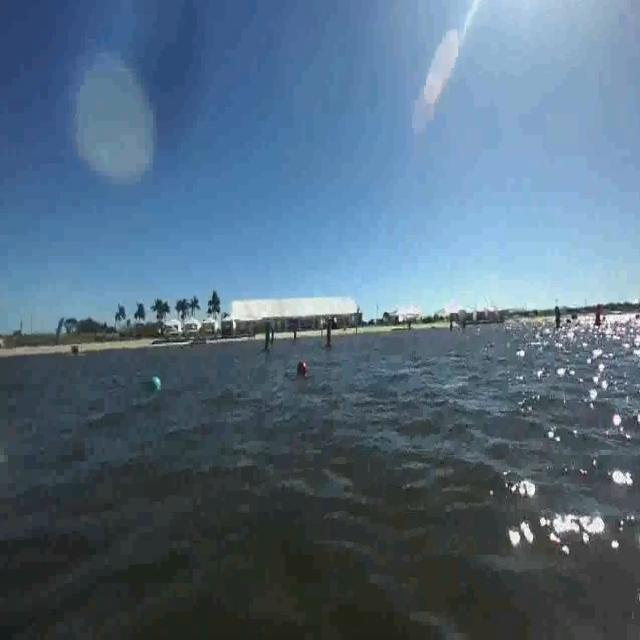green-buoy: (152, 376, 160, 389)
green-column-buoy: (264, 325, 276, 355)
red-buoy: (297, 360, 306, 374)
red-column-buoy: (593, 304, 605, 332)
